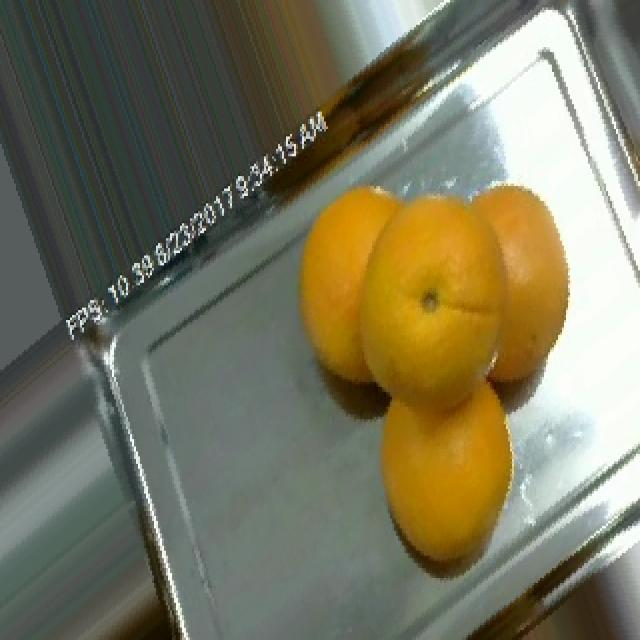Fruit: (364, 412, 550, 608)
